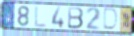2: (85, 7, 102, 31)
4: (50, 6, 67, 30)
8: (17, 5, 30, 28)
B: (67, 7, 85, 31)
D: (102, 7, 120, 32)
L: (34, 5, 48, 29)
